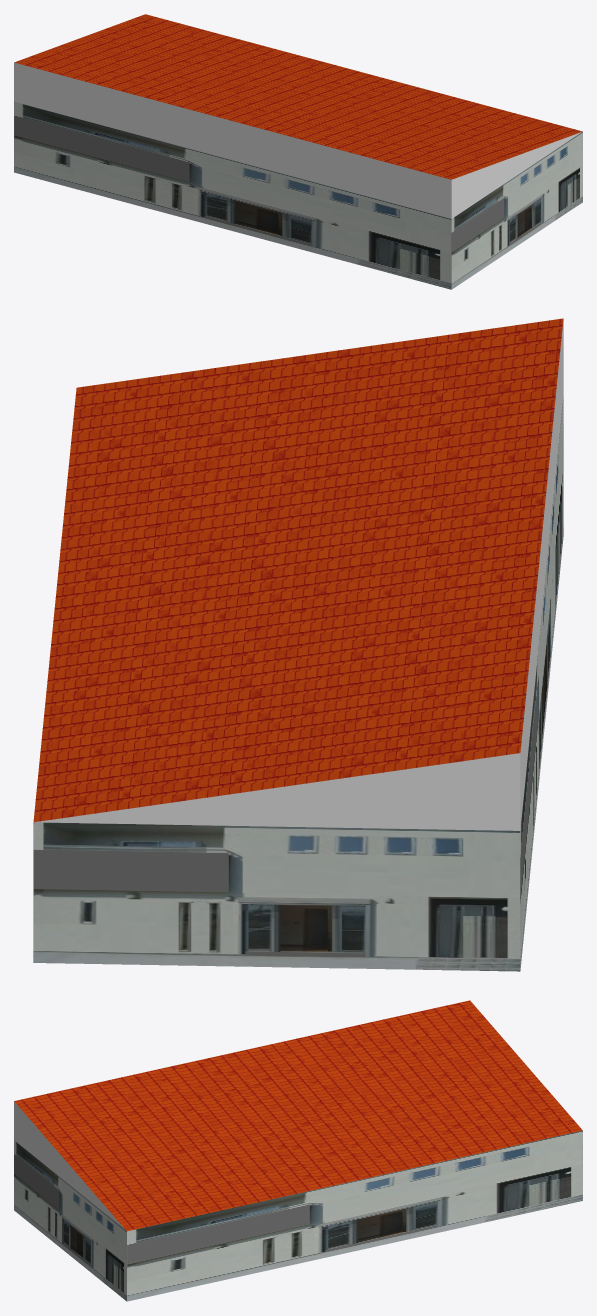
The picture shows the model from 3 angles, top to bottom: view 1: azimuth 30°, elevation 25°; view 2: azimuth 150°, elevation 25°; view 3: azimuth 270°, elevation 25°; orthographic projection. The views are drawn at different scales.
Parts seen in each view (by area): view 1: CityEngineMaterial_11_m, CityEngineMaterial_12_m, CityEngineMaterial_3_m; view 2: CityEngineMaterial_12_m, CityEngineMaterial_11_m, CityEngineMaterial_3_m; view 3: CityEngineMaterial_12_m, CityEngineMaterial_11_m, CityEngineMaterial_3_m.
Part boxes in pixels (box(x1,y1,x2,y2)): CityEngineMaterial_11_m: box(14, 102, 582, 289); CityEngineMaterial_12_m: box(14, 14, 582, 179); CityEngineMaterial_3_m: box(14, 62, 582, 218); CityEngineMaterial_12_m: box(33, 318, 563, 822); CityEngineMaterial_11_m: box(33, 396, 563, 971); CityEngineMaterial_3_m: box(35, 318, 563, 830); CityEngineMaterial_12_m: box(14, 1000, 582, 1231); CityEngineMaterial_11_m: box(14, 1130, 582, 1301); CityEngineMaterial_3_m: box(14, 1101, 125, 1230).
Size of the model in its own units: 32.25 by 8.55 by 40.38.
